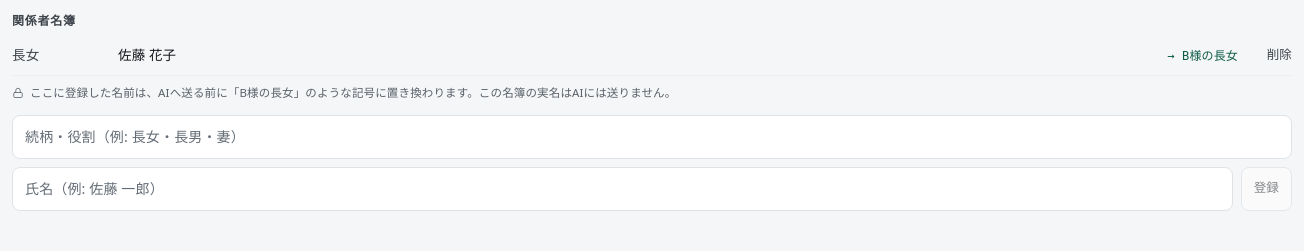
Scenario: 名簿の行と登録の欄 › 「削除」は確かめずにその行を消し（使い方の本文どおり）、消せなかったらサーバーの文を出す
This screenshot has width=1304, height=251.
Click the button "削除": (1270, 56) [1248,42,1292,70]
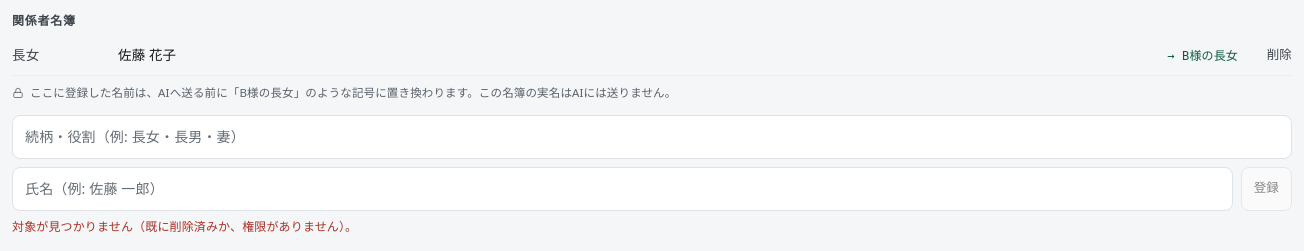
Check: the message "対象が見つかりません（既に削除済みか、権限がありません）。" is shown, box [12,218,357,235]
